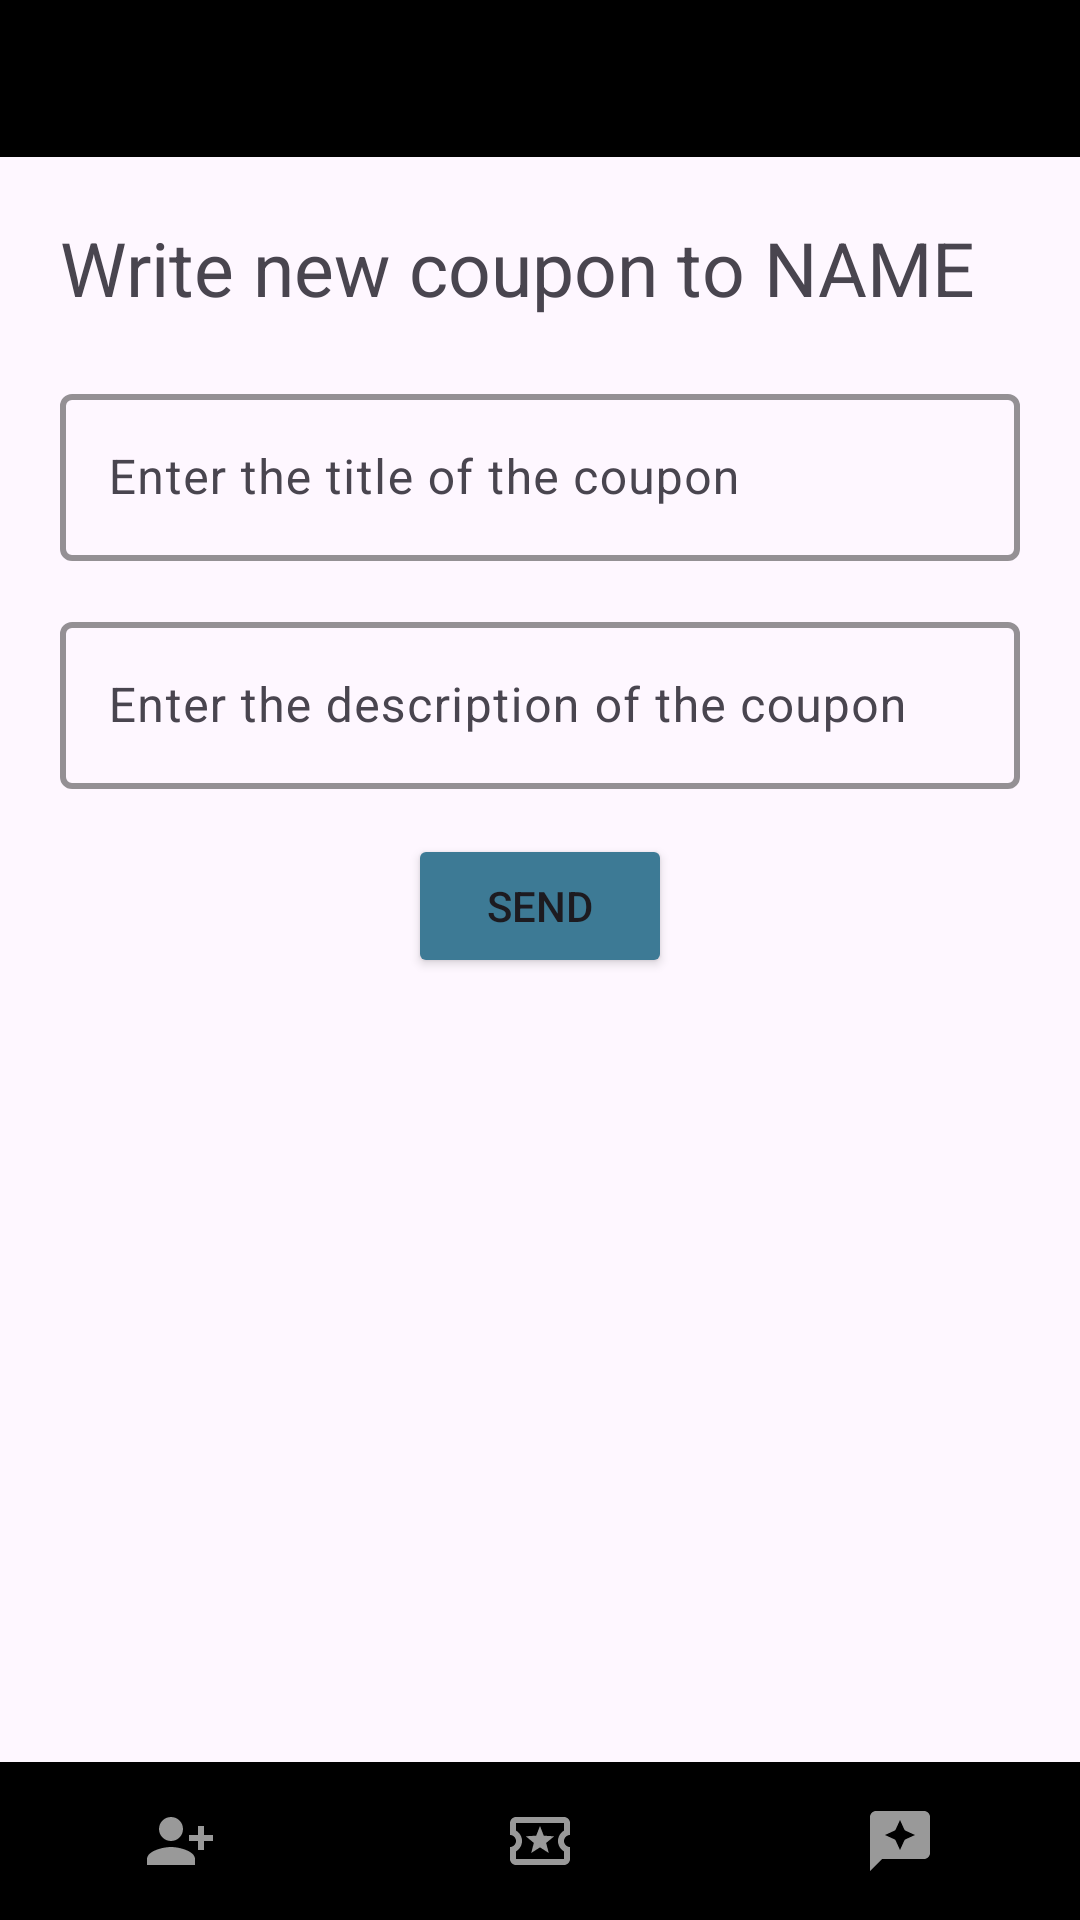

Where icons sit on this 1080×1920 app screen, as (x1, y1, x2, y2):
local activity: (510, 1817, 570, 1865)
person add: (147, 1817, 213, 1865)
reviews: (870, 1811, 930, 1871)
